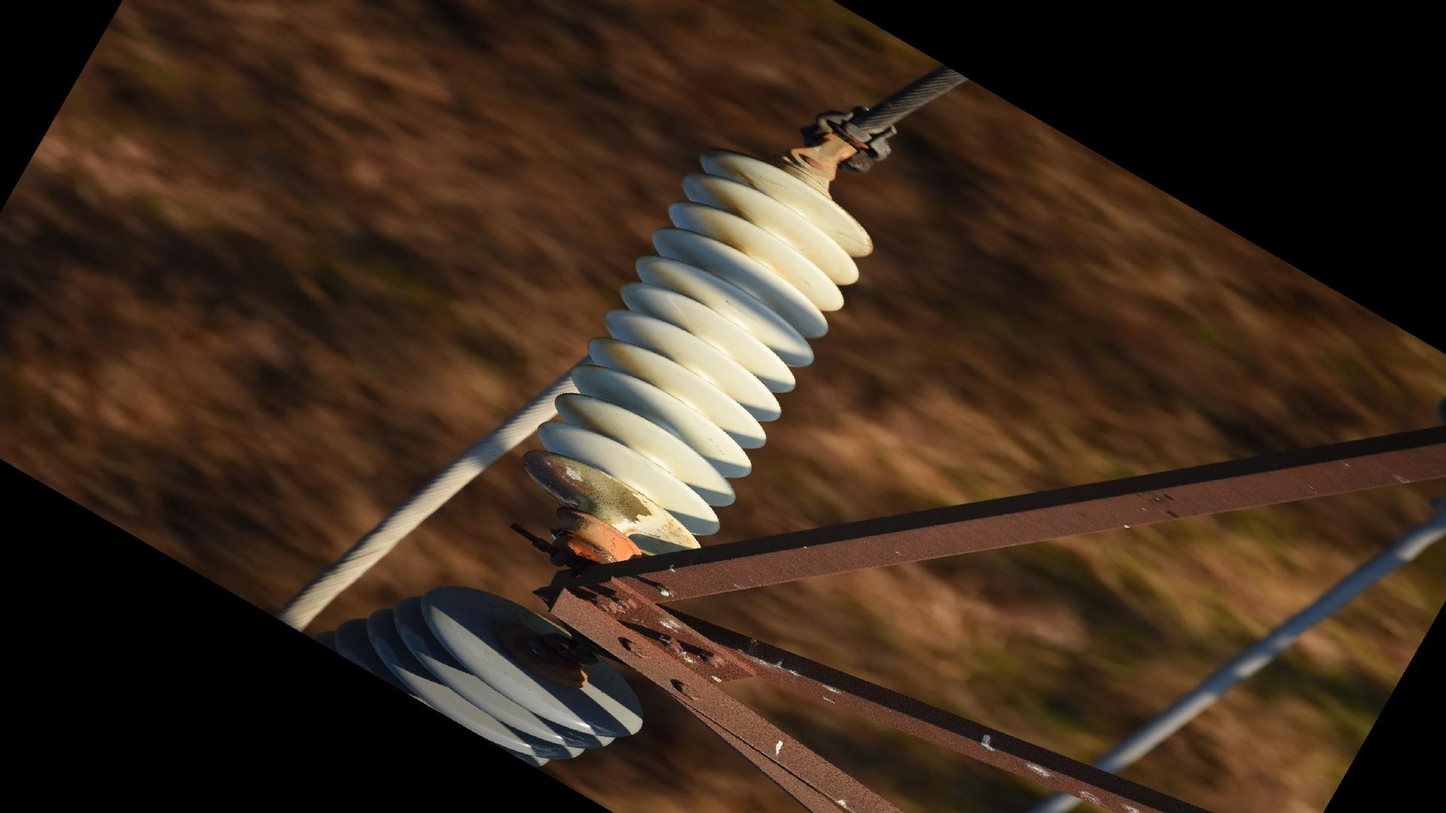insulator: (516, 142, 883, 566), (318, 580, 655, 773)
insulator_flashover: (520, 449, 648, 528)
